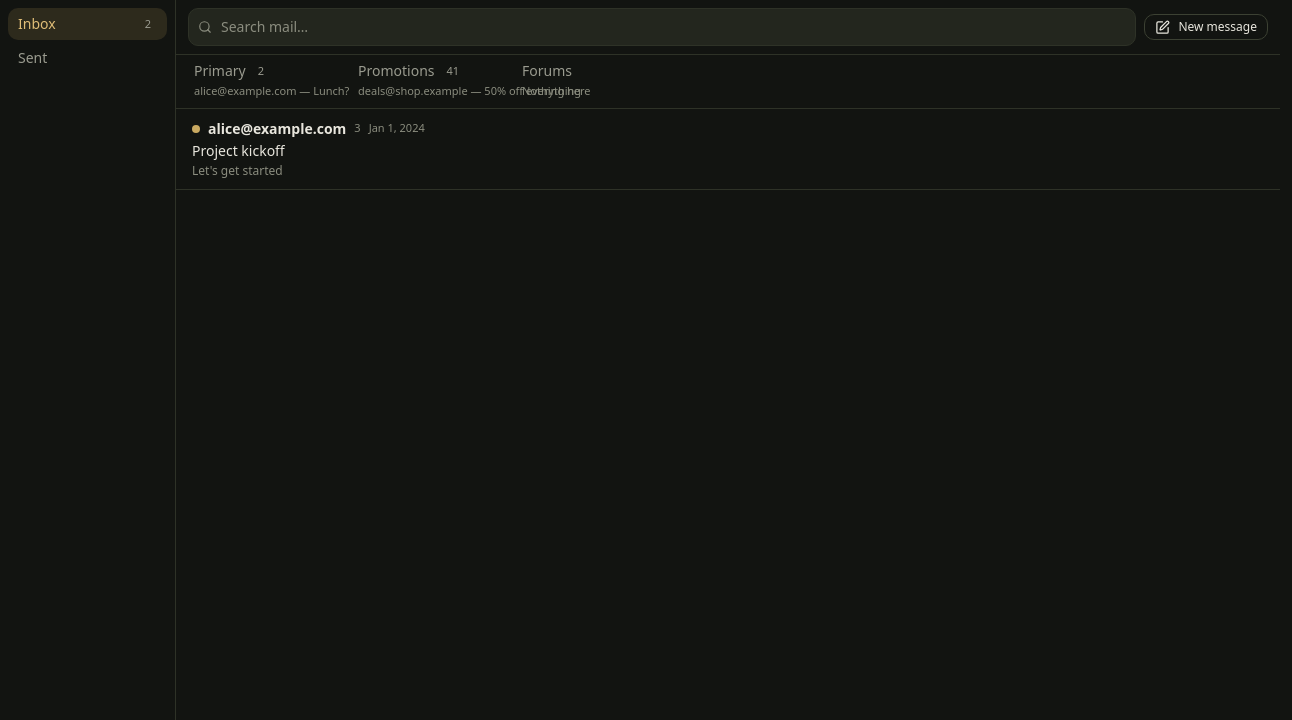
filters the thread list through the module when a tab is selected
This screenshot has width=1292, height=720.
Click the tab "Promotions 41 deals@shop.example — 50% off everything".
click(428, 81)  # box [348,55,508,108]
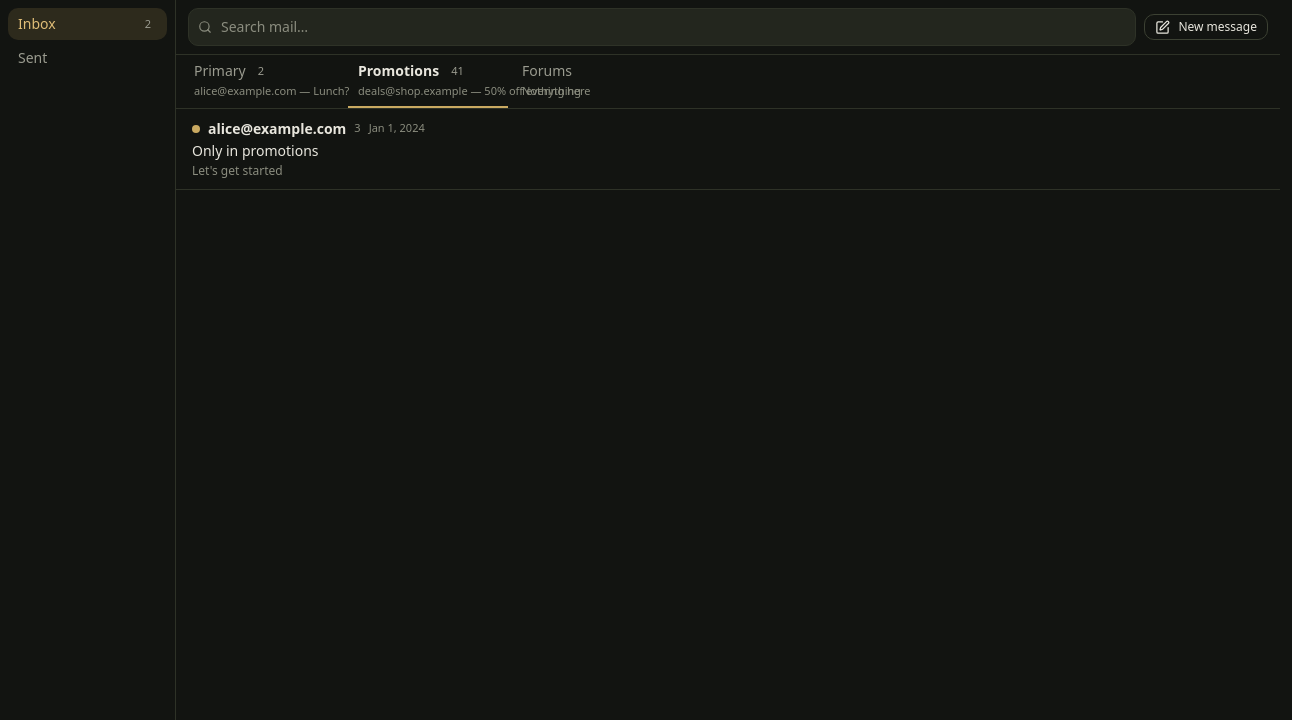
Expected: the text "Only in promotions" is shown, [192,140,318,160]
